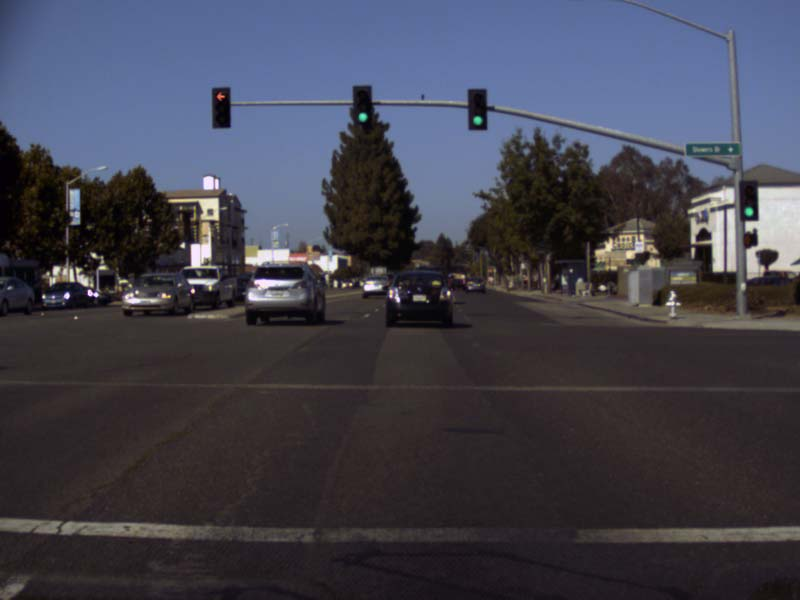Green: (352, 85, 372, 126), (467, 88, 487, 128), (738, 180, 758, 220)
Red: (212, 87, 231, 127)
